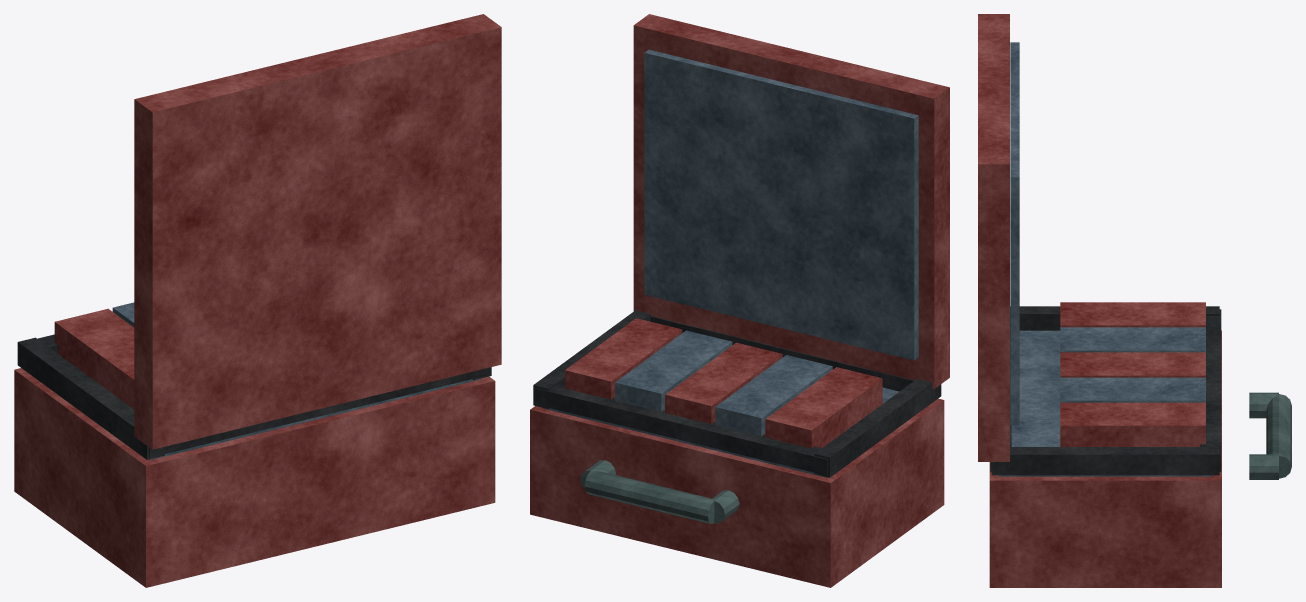
The model's file is KAL-01_v03_Suitcase_Open_Hero.glb.
3 views of the same model, side by side, from view 1: azimuth 30°, elevation 25°; view 2: azimuth 150°, elevation 25°; view 3: azimuth 270°, elevation 25° (orthographic). The views are drawn at different scales.
Visible parts, largest first — view 1: MAT_Suitcase, MAT_Rubber, MAT_Canvas, MAT_Cloth; view 2: MAT_Cloth, MAT_Suitcase, MAT_Canvas, MAT_Rubber, MAT_PaintedMetal; view 3: MAT_Suitcase, MAT_Cloth, MAT_Canvas, MAT_Rubber, MAT_PaintedMetal.
Boxes of the visible parts, <box> form: MAT_Suitcase: <box>14,14,501,587</box>; MAT_Rubber: <box>17,334,491,459</box>; MAT_Canvas: <box>54,308,134,409</box>; MAT_Cloth: <box>112,302,481,459</box>; MAT_Cloth: <box>542,49,918,477</box>; MAT_Suitcase: <box>530,14,949,587</box>; MAT_Canvas: <box>565,318,882,448</box>; MAT_Rubber: <box>533,310,941,477</box>; MAT_PaintedMetal: <box>580,460,739,523</box>; MAT_Suitcase: <box>978,14,1221,587</box>; MAT_Cloth: <box>998,42,1212,476</box>; MAT_Canvas: <box>1060,302,1205,446</box>; MAT_Rubber: <box>990,306,1221,475</box>; MAT_PaintedMetal: <box>1249,392,1291,479</box>.
Bounding box in the file's own units: 0.78 × 1.02 × 0.688.
5 materials, 5 textured.
